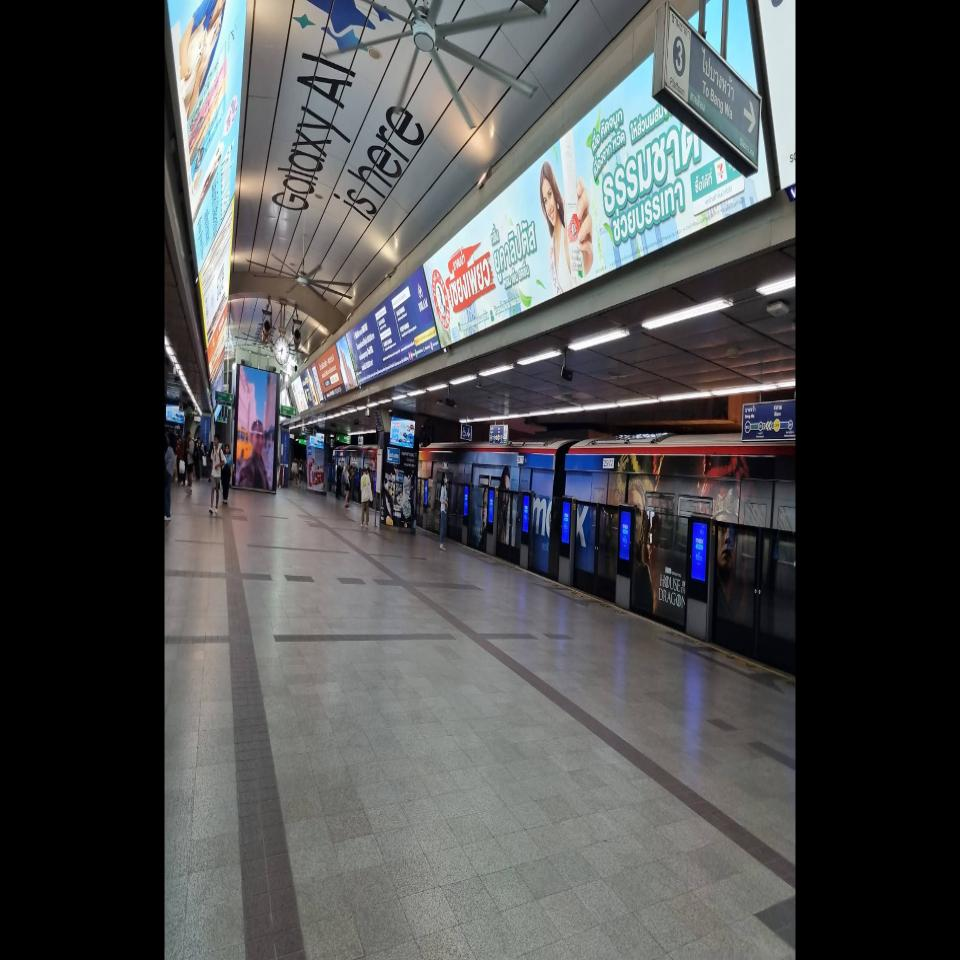Siam: (758, 404, 794, 433)
